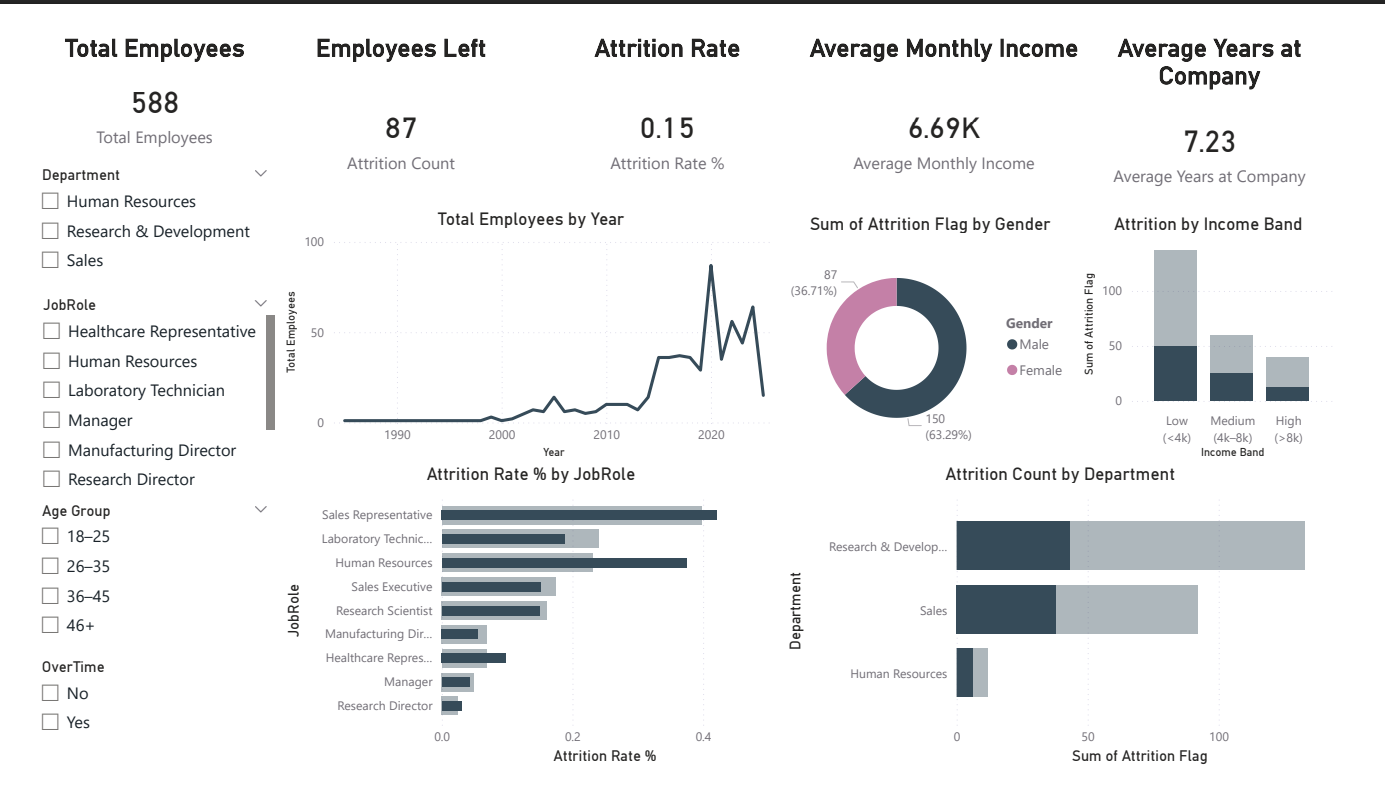

This screenshot's page, from the dashboard's own definition file:
{"tool":"powerbi","page":{"name":"HR Dashboard","canvas":[1280,720],"ordinal":0},"visuals":[{"type":"card","title":"Total Employees","fields":{"Values":["HR-Employee-Attrition.Total Employees"]},"box":[0,0,245.7,125.9],"z":0},{"type":"card","title":"Employees Left","fields":{"Values":["HR-Employee-Attrition.Attrition Count"]},"box":[228.4,0,270.4,176.5],"z":1000},{"type":"card","title":"Attrition Rate","fields":{"Values":["HR-Employee-Attrition.Attrition Rate %"]},"box":[498.8,0,250.6,176.5],"z":2000},{"type":"card","title":"Average Monthly Income","fields":{"Values":["HR-Employee-Attrition.Average Monthly Income"]},"box":[749.4,0,290.1,176.5],"z":3000},{"type":"card","title":"Average Years at Company","fields":{"Values":["HR-Employee-Attrition.Average Years at Company"]},"box":[1028.4,0,251.9,176.5],"z":4000},{"type":"slicer","fields":{"Values":["HR-Employee-Attrition.Department"]},"box":[0,125.9,245.7,127.2],"z":5000},{"type":"slicer","fields":{"Values":["HR-Employee-Attrition.JobRole"]},"box":[1.2,253.1,244.4,200],"z":6000},{"type":"slicer","fields":{"Values":["HR-Employee-Attrition.Age Group"]},"box":[0,453.1,245.7,153.1],"z":7000},{"type":"slicer","fields":{"Values":["HR-Employee-Attrition.OverTime"]},"box":[0,606.2,245.7,113.6],"z":8000},{"type":"barChart","title":"Attrition Count by Department","fields":{"Category":["HR-Employee-Attrition.Department"],"Y":["Sum(HR-Employee-Attrition.Attrition Flag)"]},"box":[735.8,421,544.4,298.8],"z":9000},{"type":"clusteredBarChart","fields":{"Category":["HR-Employee-Attrition.JobRole"],"Y":["HR-Employee-Attrition.Attrition Rate %"]},"box":[245.7,421,490.1,298.8],"z":10000},{"type":"donutChart","fields":{"Y":["Sum(HR-Employee-Attrition.Attrition Flag)"],"Category":["HR-Employee-Attrition.Gender"]},"box":[735.8,176.5,290.1,244.4],"z":11000},{"type":"columnChart","title":"Attrition by Income Band","fields":{"Category":["HR-Employee-Attrition.Income Band"],"Y":["Sum(HR-Employee-Attrition.Attrition Flag)"]},"box":[1025.9,176.5,254.3,244.4],"z":12000},{"type":"lineChart","fields":{"Y":["HR-Employee-Attrition.Total Employees"],"Category":["HR-Employee-Attrition.HireDate.Variation.Date Hierarchy.Year","HR-Employee-Attrition.HireDate.Variation.Date Hierarchy.Quarter","HR-Employee-Attrition.HireDate.Variation.Date Hierarchy.Month","HR-Employee-Attrition.HireDate.Variation.Date Hierarchy.Day"]},"box":[245.7,171.6,490.1,249.4],"z":13000}]}

Visuals, with their boxes in screenshot pixels (x1, y1, x2, y2), scaled from the page's 1280x720 canvas onto the 1385x797 screenshot:
"Total Employees" card: bbox=[0, 0, 266, 139]
"Employees Left" card: bbox=[247, 0, 540, 195]
"Attrition Rate" card: bbox=[540, 0, 811, 195]
"Average Monthly Income" card: bbox=[811, 0, 1125, 195]
"Average Years at Company" card: bbox=[1113, 0, 1384, 195]
slicer - HR-Employee-Attrition.Department: bbox=[0, 139, 266, 280]
slicer - HR-Employee-Attrition.JobRole: bbox=[1, 280, 266, 502]
slicer - HR-Employee-Attrition.Age Group: bbox=[0, 502, 266, 671]
slicer - HR-Employee-Attrition.OverTime: bbox=[0, 671, 266, 796]
"Attrition Count by Department" barChart: bbox=[796, 466, 1384, 796]
clusteredBarChart - HR-Employee-Attrition.JobRole x HR-Employee-Attrition.Attrition Rate %: bbox=[266, 466, 796, 796]
donutChart - Sum(HR-Employee-Attrition.Attrition Flag) x HR-Employee-Attrition.Gender: bbox=[796, 195, 1110, 466]
"Attrition by Income Band" columnChart: bbox=[1110, 195, 1384, 466]
lineChart - HR-Employee-Attrition.Total Employees x HR-Employee-Attrition.HireDate.Variation.Date Hierarchy.Year: bbox=[266, 190, 796, 466]
